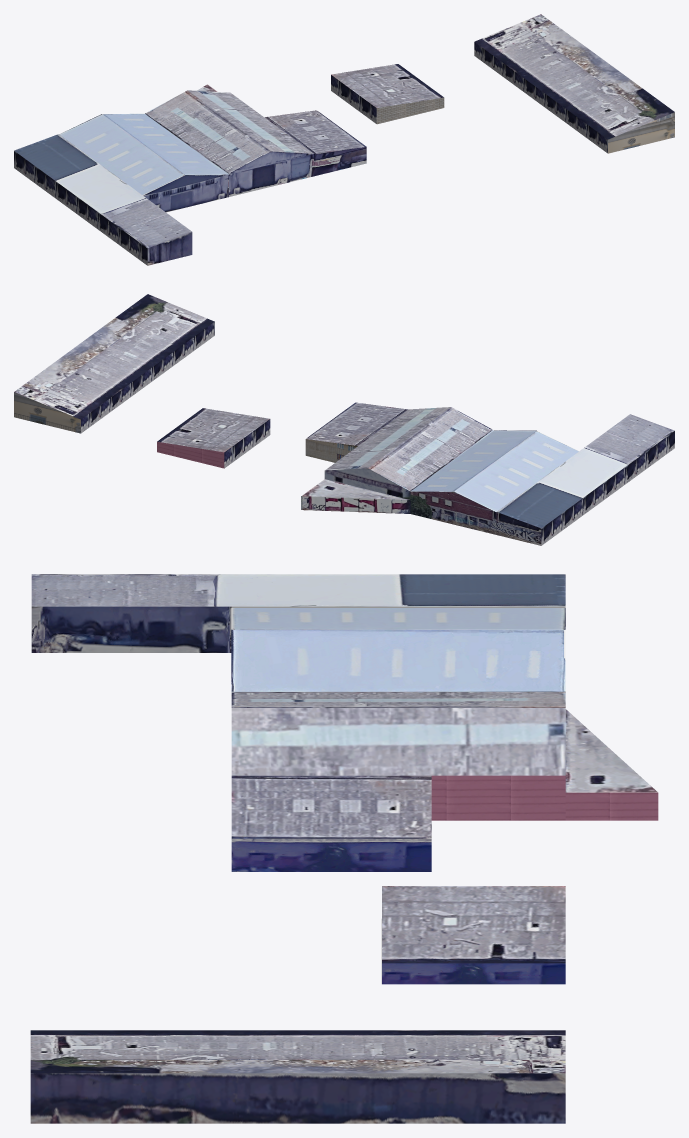
File: Lecu_extra1.gltf
3 renders of one model, top to bottom at view 1: azimuth 30°, elevation 25°; view 2: azimuth 150°, elevation 25°; view 3: azimuth 270°, elevation 25°, orthographic. The views are drawn at different scales.
Visible parts, largest first — view 1: extralecu1; view 2: extralecu1; view 3: extralecu1.
Boxes of the visible parts, x1,y1,x2,y2 form: extralecu1: [14, 14, 674, 265]; extralecu1: [14, 294, 674, 545]; extralecu1: [30, 574, 658, 1123].
Bounding box in the file's own units: 110 × 7.07 × 56.78.
